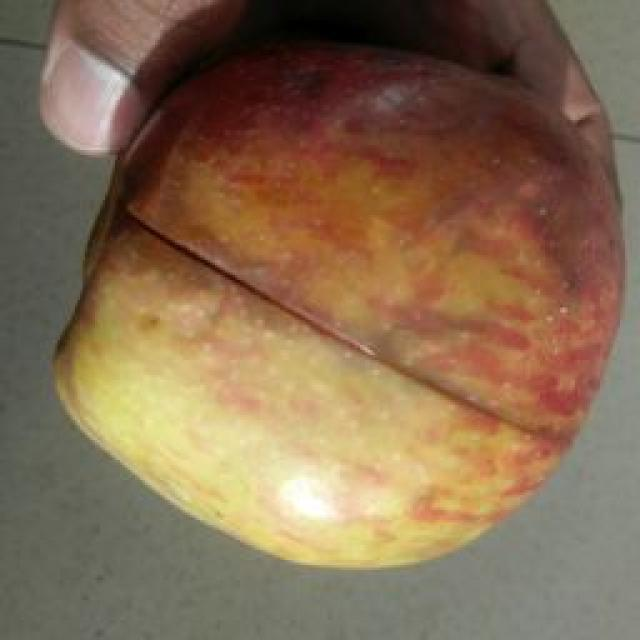Bad_Apple: (59, 45, 622, 566)
